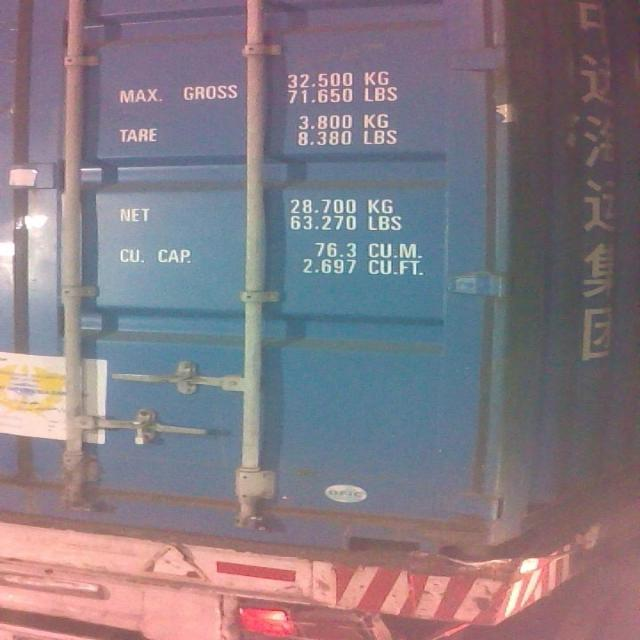seal: (126, 418, 160, 449)
